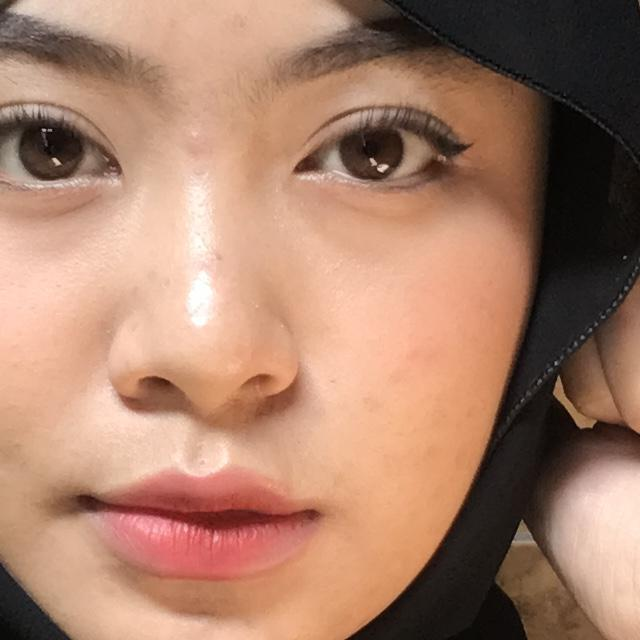ibu: (465, 221, 640, 640)
